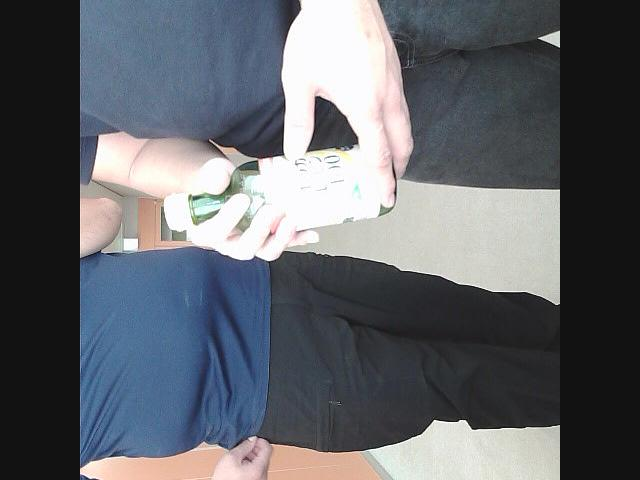Lemon_sapporo: (160, 139, 402, 240)
